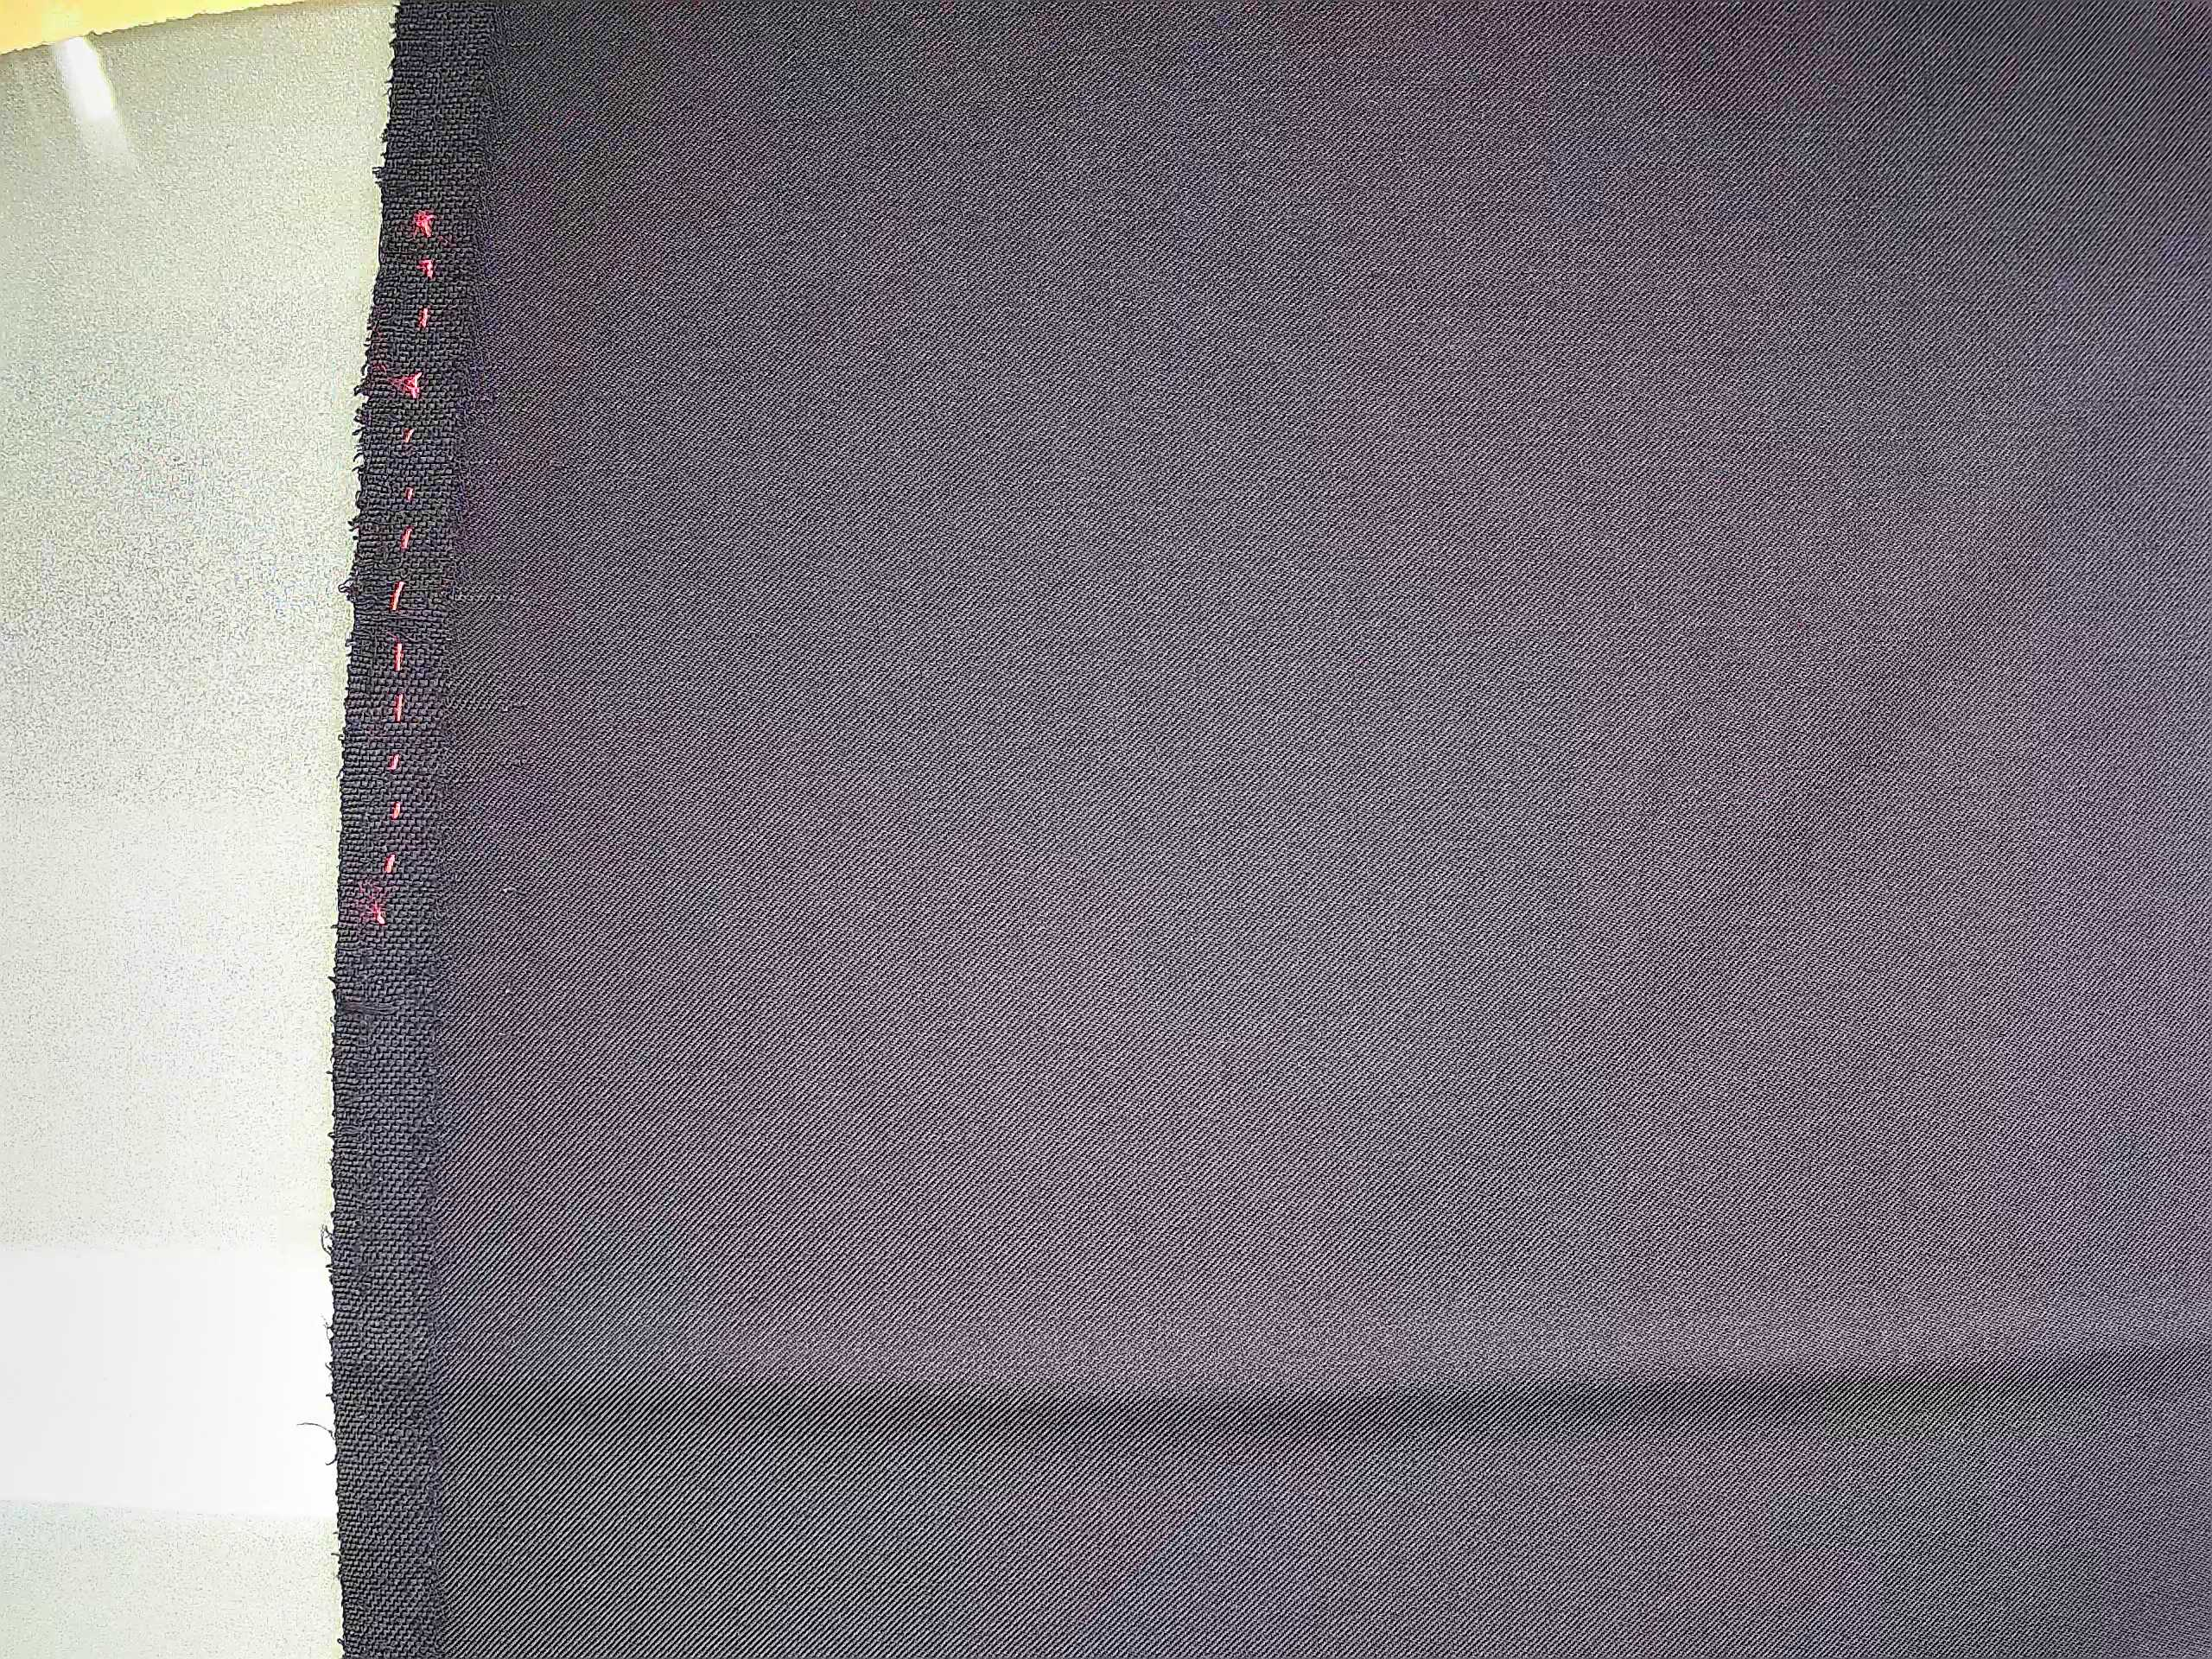others: (451, 371, 547, 911)
